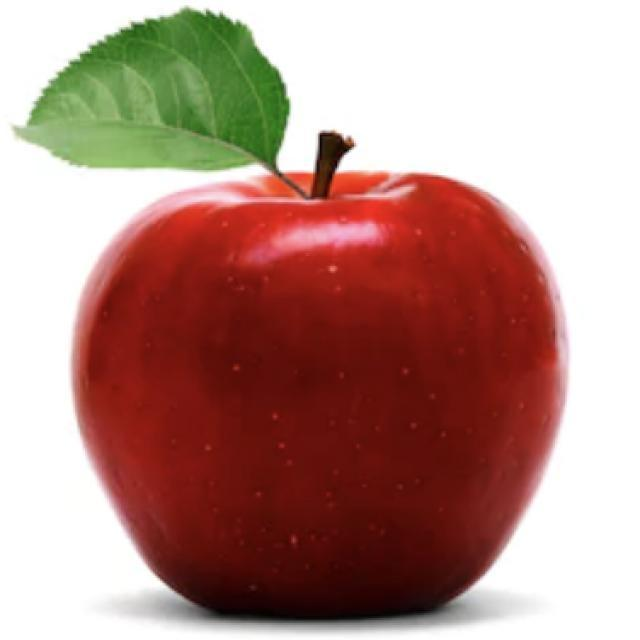Fresh Apple: (74, 168, 578, 622)
